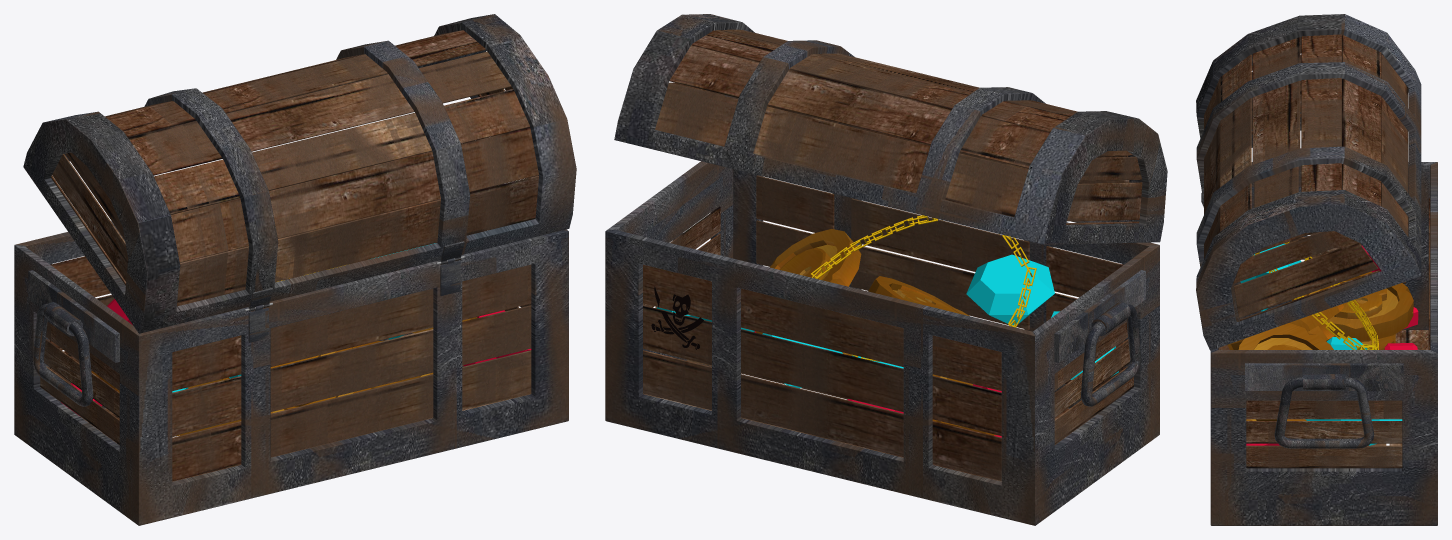
File: EAC2_TreasureChest.fbx
3 views of the same model, side by side, from view 1: azimuth 30°, elevation 25°; view 2: azimuth 150°, elevation 25°; view 3: azimuth 270°, elevation 25° (orthographic). The views are drawn at different scales.
Parts seen in each view (by area): view 1: UPart, DPart, Handles, Treasure, DVis; view 2: DPart, UPart, Treasure, Handles, Chain, PirateSticker; view 3: UPart, DPart, Treasure, Handles, Chain.
Boxes of the visible parts, x1=… form: UPart: x1=23, y1=14, x2=576, y2=333; DPart: x1=14, y1=185, x2=568, y2=525; Handles: x1=28, y1=270, x2=119, y2=406; Treasure: x1=61, y1=243, x2=531, y2=435; DVis: x1=244, y1=256, x2=464, y2=342; DPart: x1=605, y1=161, x2=1159, y2=525; UPart: x1=614, y1=14, x2=1167, y2=244; Treasure: x1=656, y1=229, x2=1118, y2=437; Handles: x1=673, y1=233, x2=1145, y2=406; Chain: x1=811, y1=215, x2=1036, y2=361; PirateSticker: x1=651, y1=286, x2=703, y2=349; UPart: x1=1196, y1=14, x2=1421, y2=350; DPart: x1=1210, y1=162, x2=1437, y2=525; Treasure: x1=1227, y1=243, x2=1418, y2=445; Handles: x1=1245, y1=235, x2=1403, y2=448; Chain: x1=1253, y1=241, x2=1378, y2=349.
Bounding box in the file's own units: 410 × 293 × 200.
Materials: 14 (9 with a texture image).
